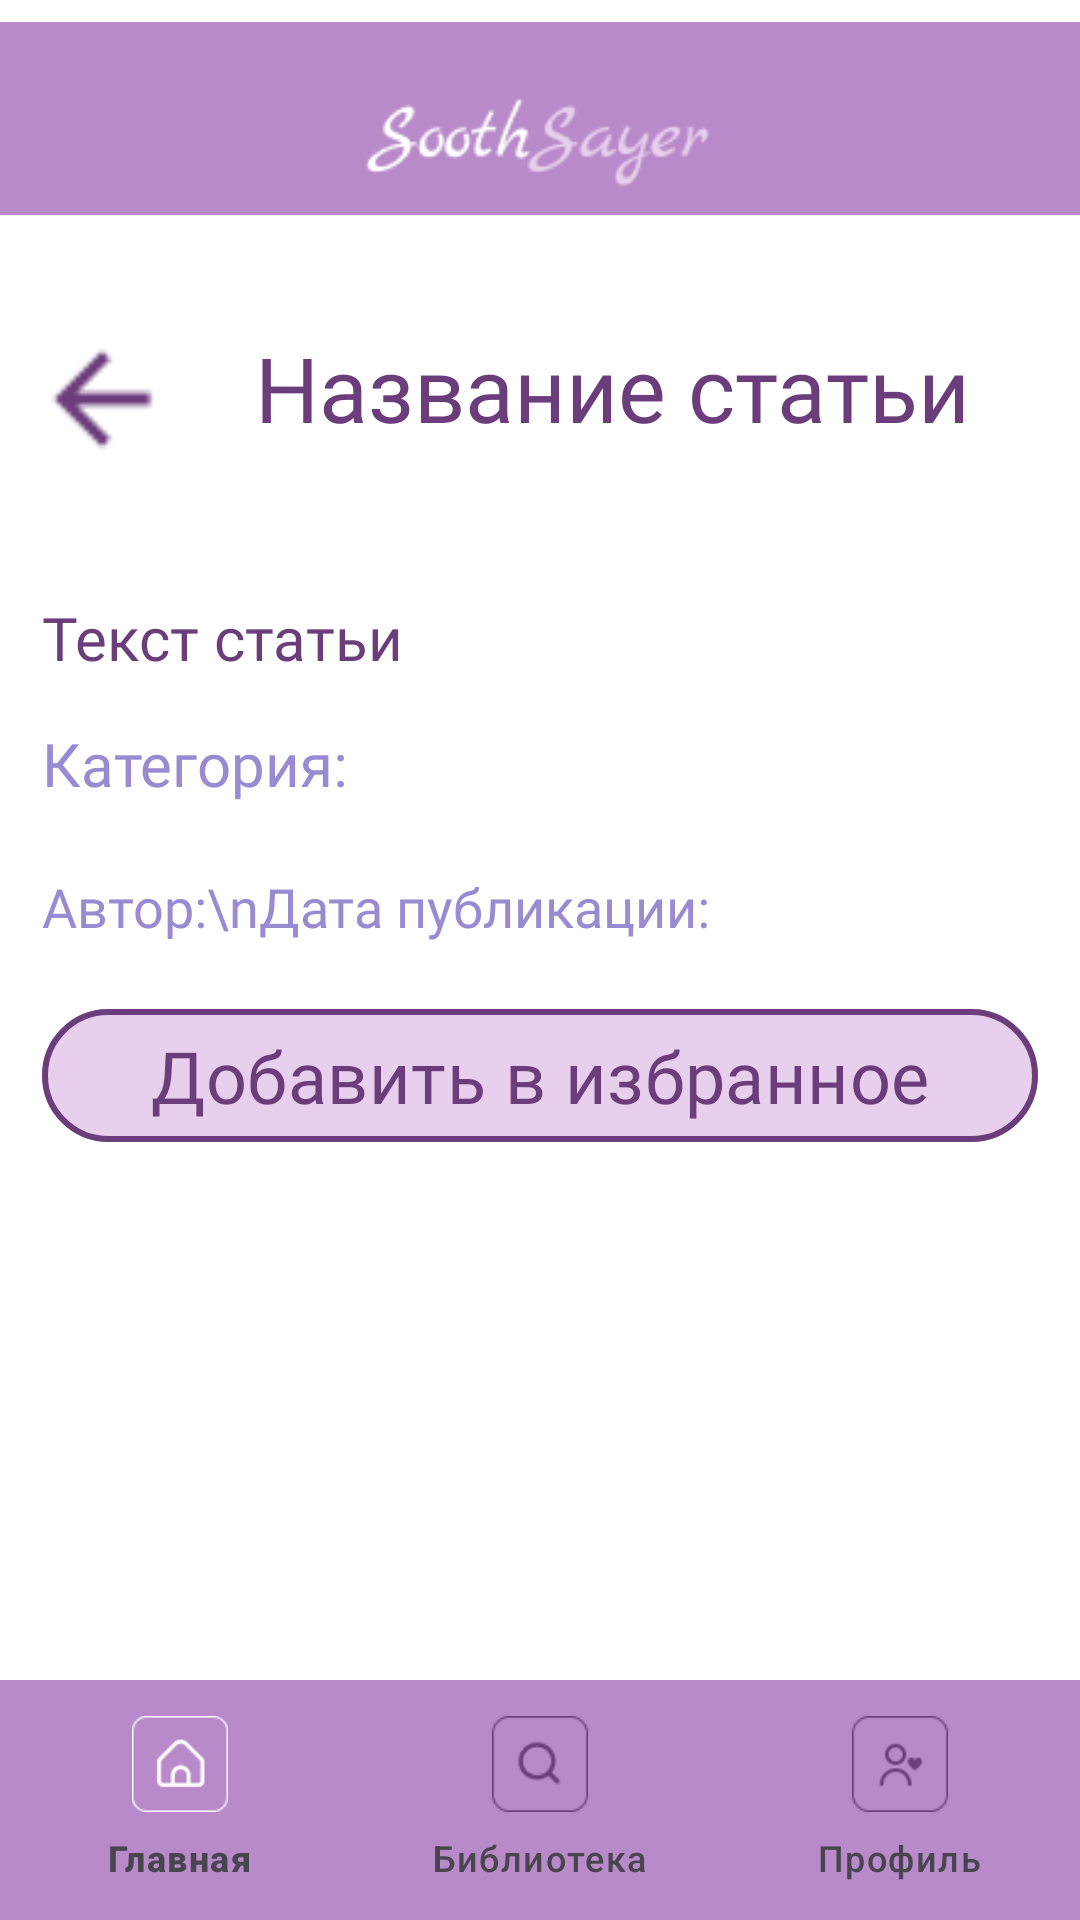

Where icons sit on this 1080x1920 app screen, as detection(x1, y1, x2, y2):
back: detection(53, 350, 153, 448)
